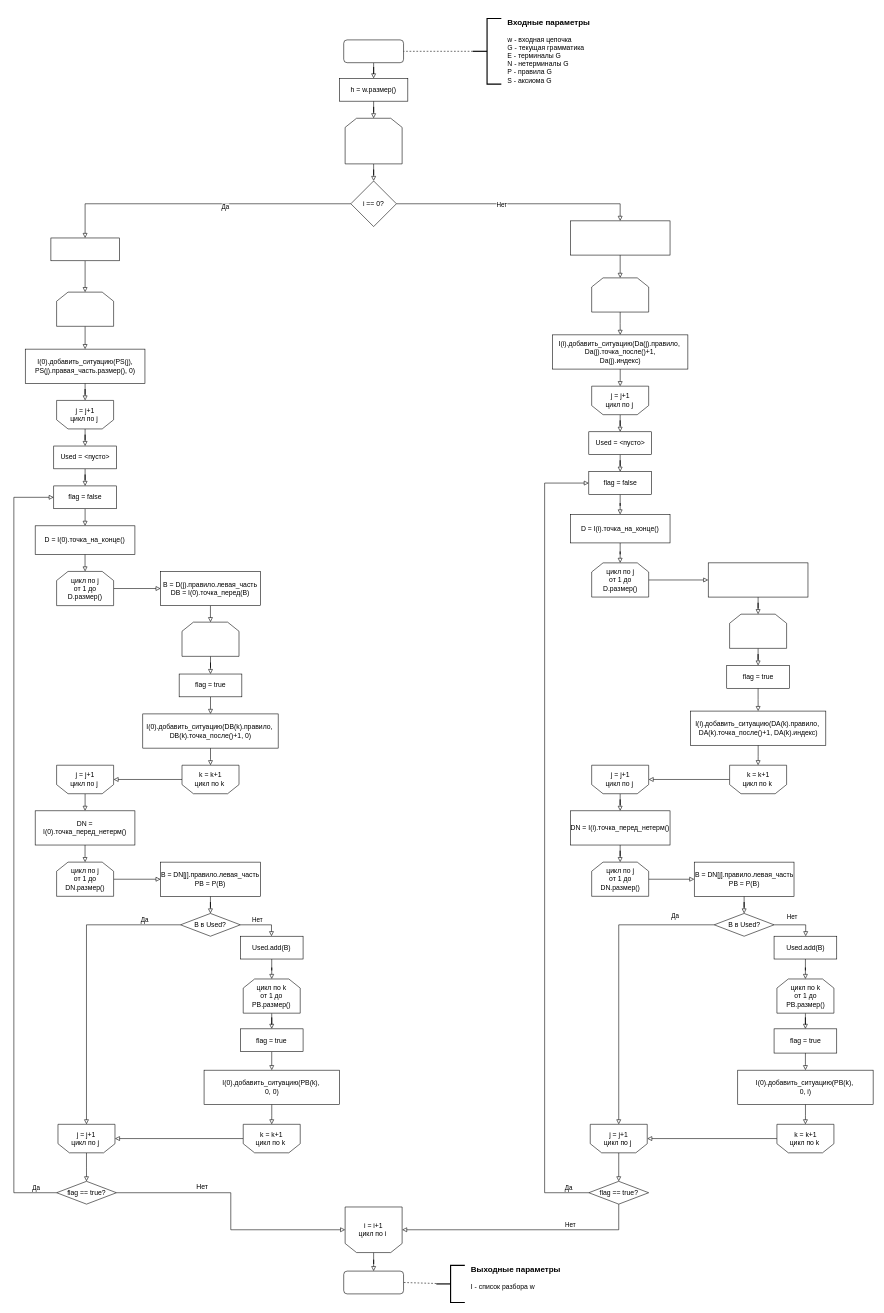
The diagram is 884 pixels wide and 1313 high, and some of its shapes have lost their labels. Each missing label, with the centre of its shape:
"A = D(j).правило.левая_часть t = D(j).индекс DA = I(t).точка_перед(A)" belongs at pixel 758 579.
"a = w(i) Da = I(i-1).точка_перед(a)" belongs at pixel 620 237.
"PS = P(S)" belongs at pixel 84 249.
"Конец" belongs at pixel 373 1282.
"Начало" belongs at pixel 373 51.
"цикл по i от 0 до h" belongs at pixel 373 141.
"цикл по j от 1 до Da.размер()" belongs at pixel 620 294.
"цикл по j от 1 до PS.размер()" belongs at pixel 85 309.
"цикл по k от 1 до DB.размер()" belongs at pixel 210 639.
"цикл по k от 1 до DА.размер()" belongs at pixel 758 631.
